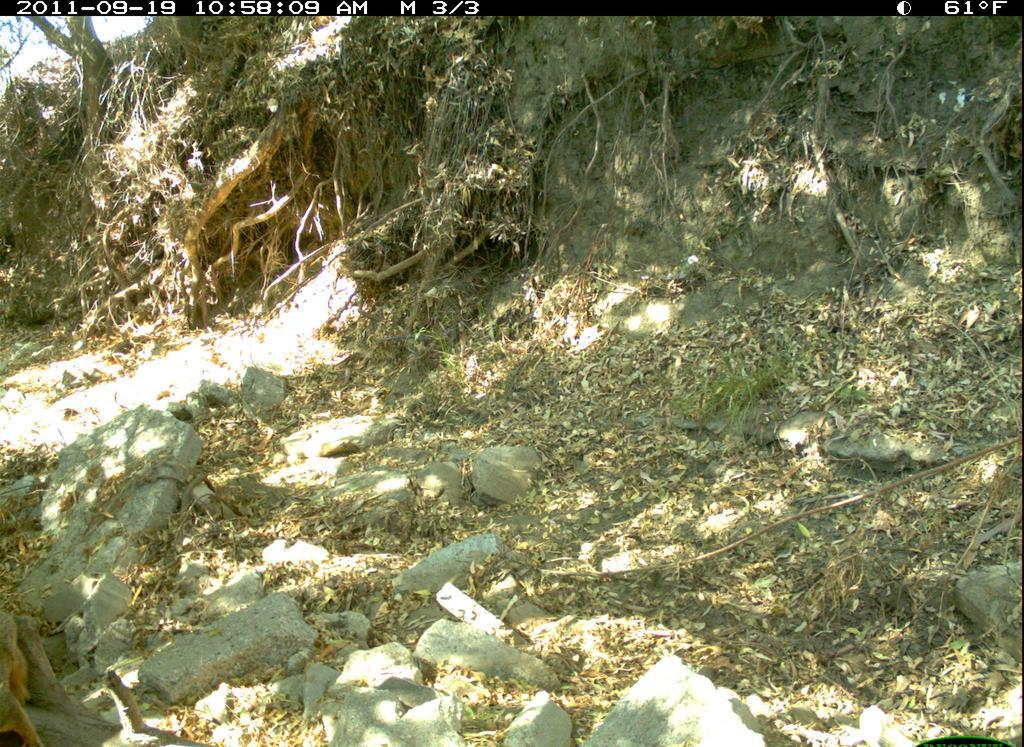squirrel: (1, 607, 44, 747)
